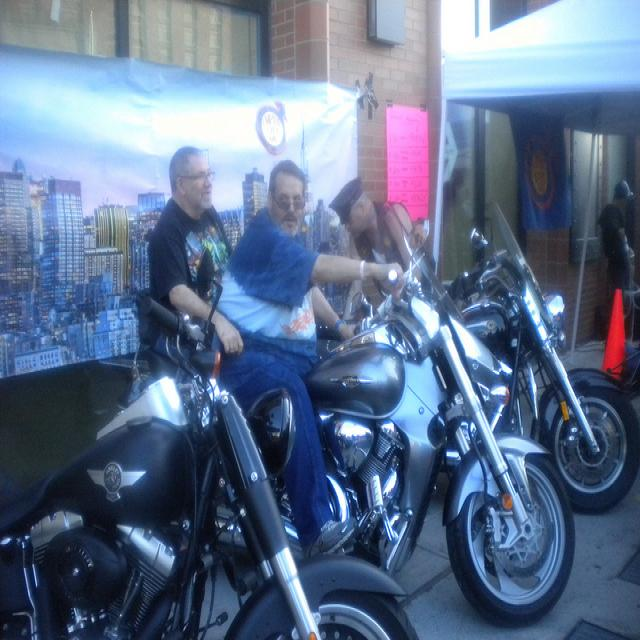motor: (2, 297, 416, 632), (272, 213, 599, 627), (452, 210, 640, 505)
